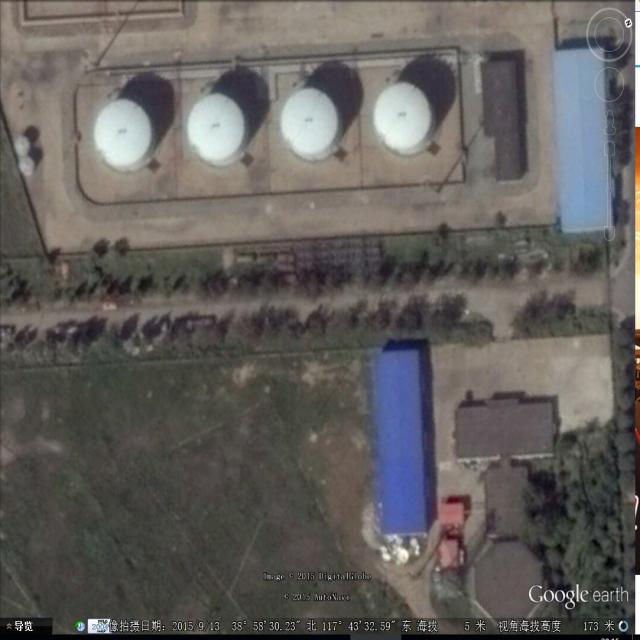oiltank: (91, 91, 161, 181), (184, 87, 256, 172), (368, 79, 442, 160), (276, 83, 346, 168)
